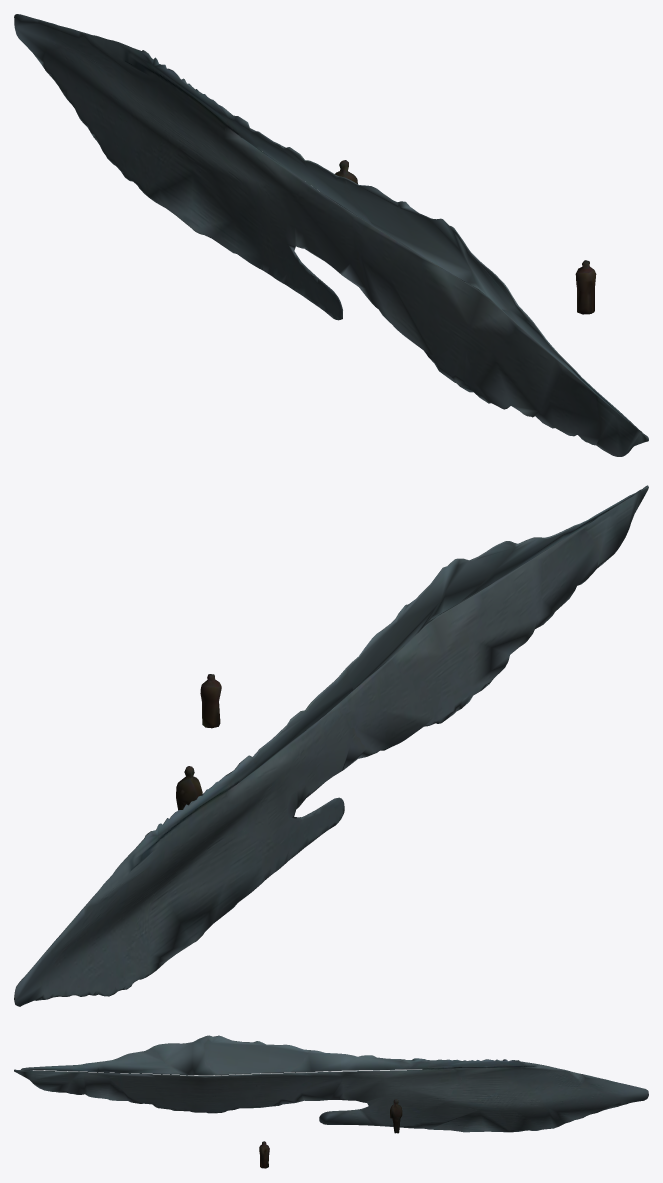
3 renders of one model, top to bottom at view 1: azimuth 30°, elevation 25°; view 2: azimuth 150°, elevation 25°; view 3: azimuth 270°, elevation 25°, orthographic. The views are drawn at different scales.
Parts seen in each view (by area): view 1: node_0; view 2: node_0; view 3: node_0.
Boxes of the visible parts, x1,y1,x2,y2 form: node_0: (14,14,648,456); node_0: (14,485,648,1006); node_0: (14,1035,648,1168).
Size of the model in its own units: 0.2141 by 0.1979 by 1.18.
Materials: 1 (1 with a texture image).
